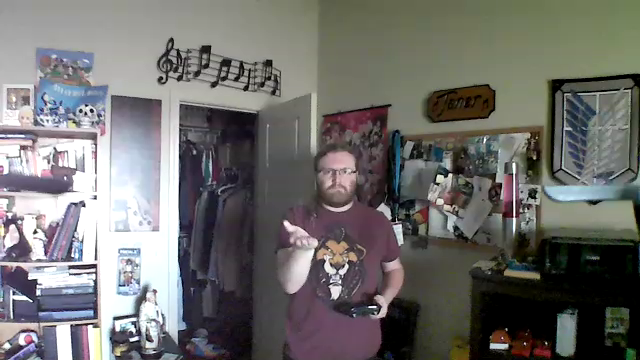land: (279, 217, 322, 257)
